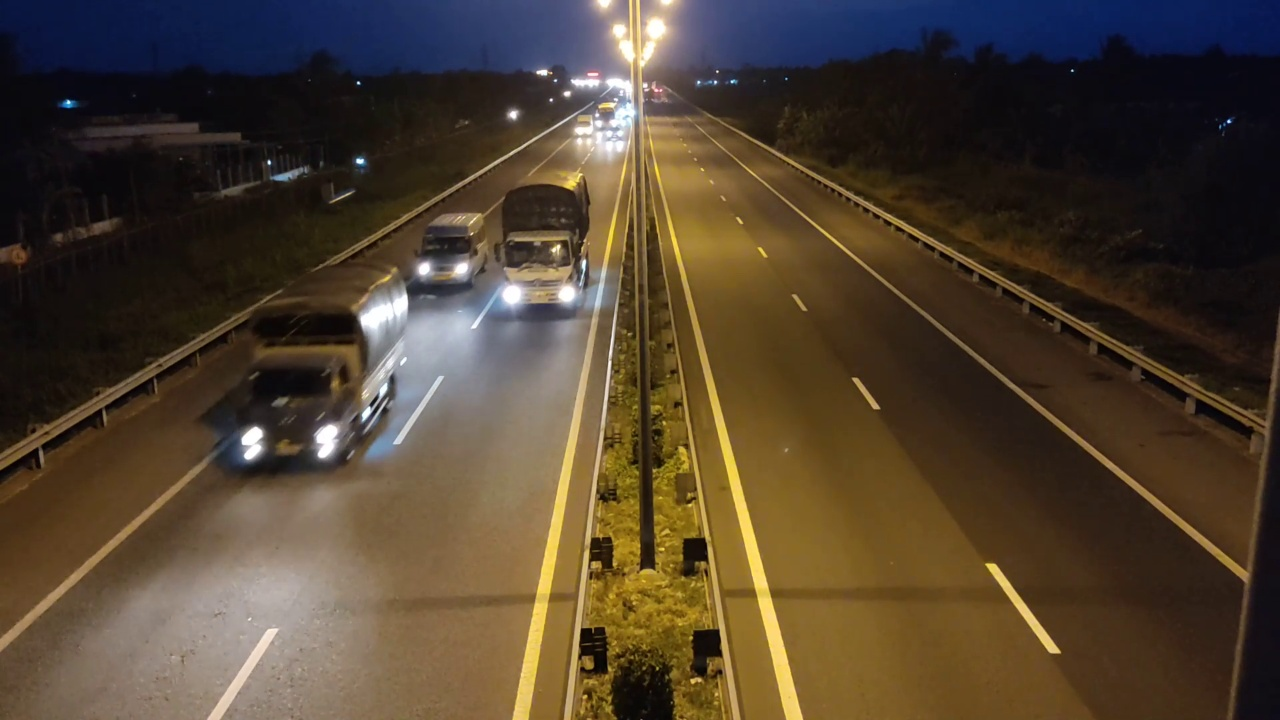bus: (500, 168, 591, 317)
car: (416, 204, 493, 298)
truck: (227, 254, 419, 478)
